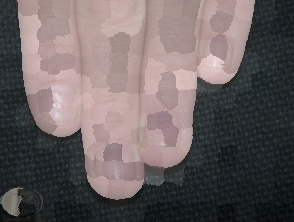Nail_psoriasis: (130, 101, 191, 163), (31, 79, 83, 131)
